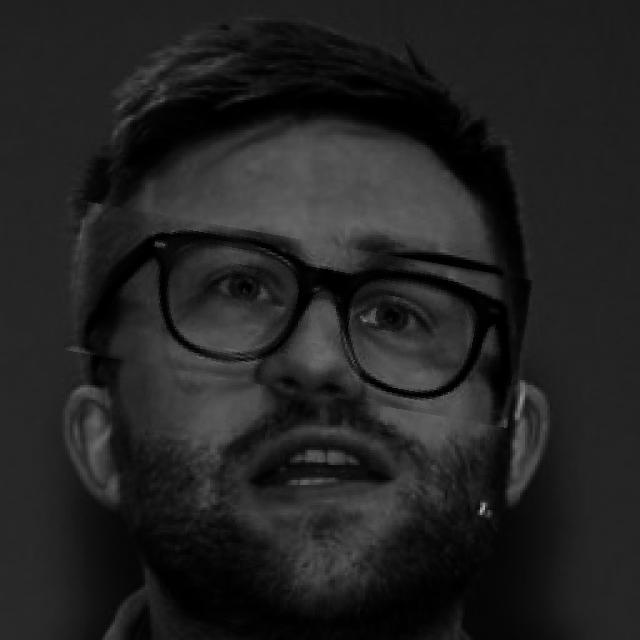glasses: (67, 221, 529, 409)
